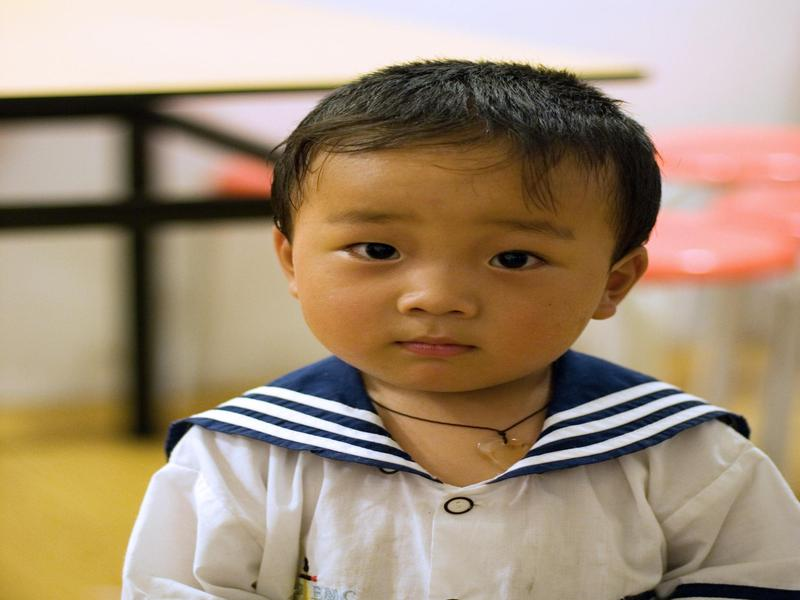person: (94, 59, 799, 594)
